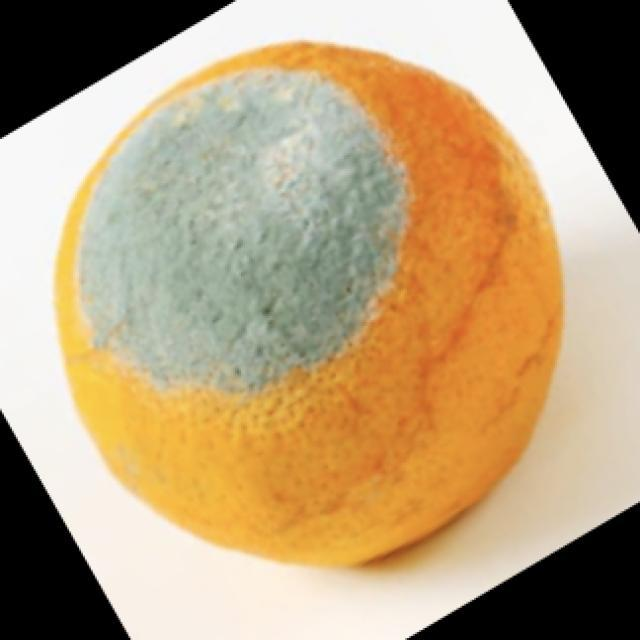sedikit-busuk: (54, 39, 563, 566), (74, 70, 409, 384)
